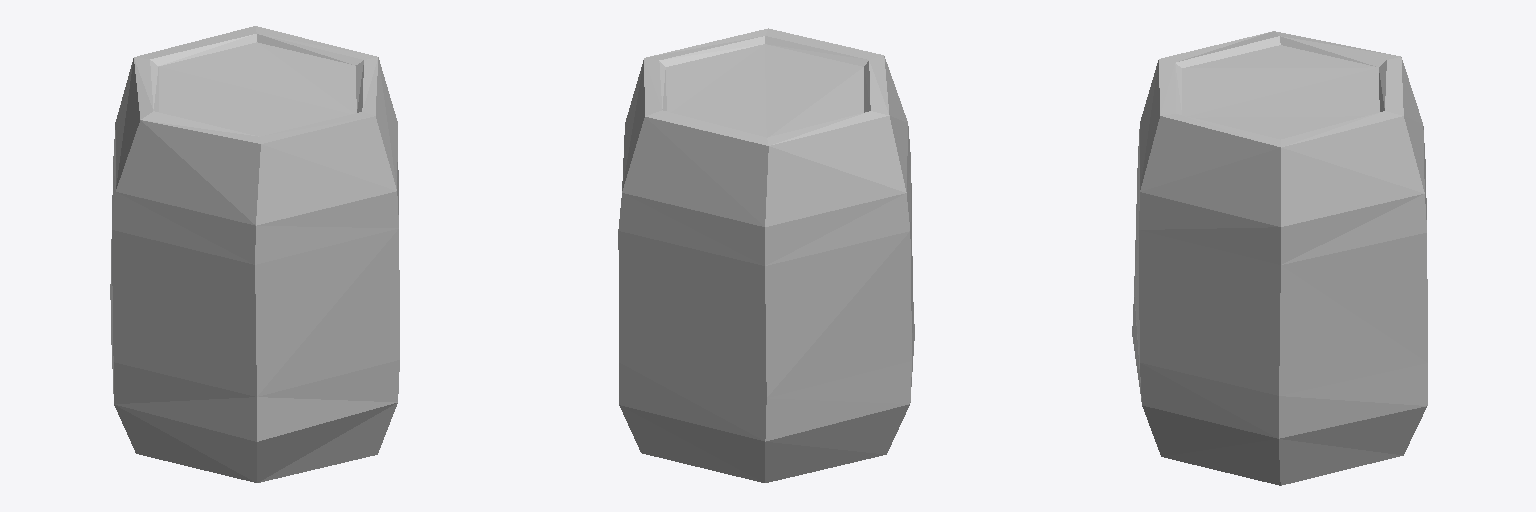
File: 0011_BarrelNew.obj
3 views of the same model, side by side, from view 1: azimuth 30°, elevation 25°; view 2: azimuth 150°, elevation 25°; view 3: azimuth 270°, elevation 25° (orthographic).
Parts seen in each view (by area): view 1: barrel_obj; view 2: barrel_obj; view 3: barrel_obj.
Part boxes in pixels (x1,y1,x2,y2): barrel_obj: (110,26,399,482); barrel_obj: (618,28,914,482); barrel_obj: (1132,31,1427,485).
Size of the model in its own units: 20.16 by 22.98 by 18.01.